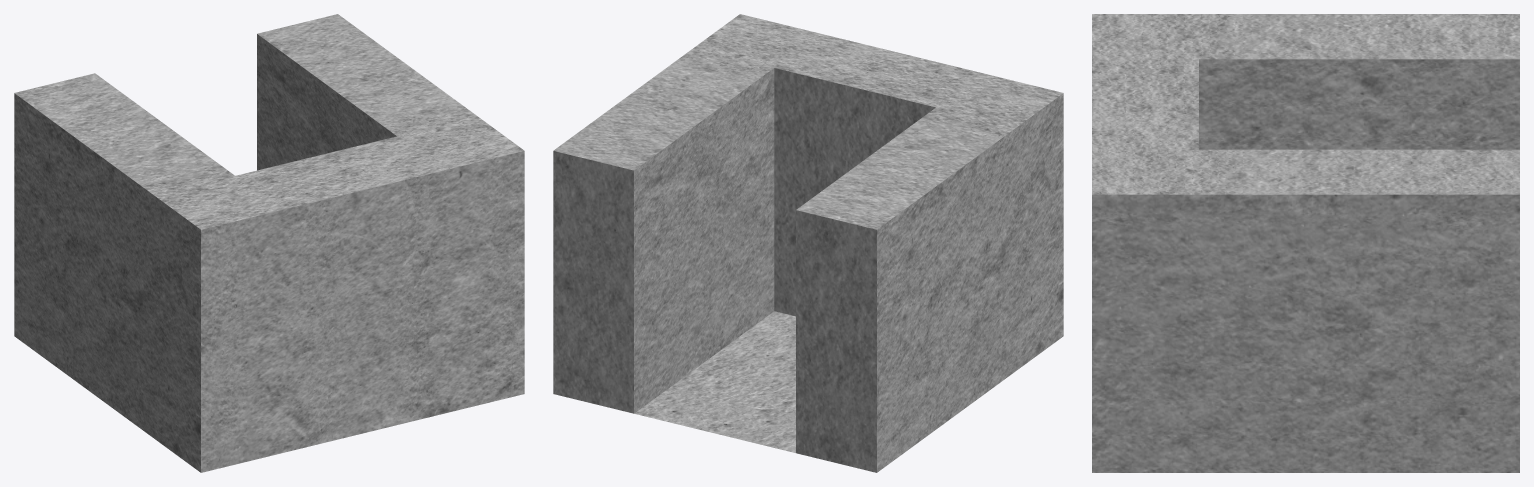
File: 1x1deadendTextured.fbx
3 views of the same model, side by side, from view 1: azimuth 30°, elevation 25°; view 2: azimuth 150°, elevation 25°; view 3: azimuth 270°, elevation 25° (orthographic). The views are drawn at different scales.
Visible parts, largest first — view 1: Plane.001; view 2: Plane.001; view 3: Plane.001.
Part boxes in pixels (x1=…): Plane.001: x1=14, y1=14, x2=524, y2=472; Plane.001: x1=553, y1=14, x2=1063, y2=472; Plane.001: x1=1092, y1=14, x2=1519, y2=472.
Bounding box in the file's own units: 12.5 × 8.97 × 12.5.
Materials: 1 (1 with a texture image).
